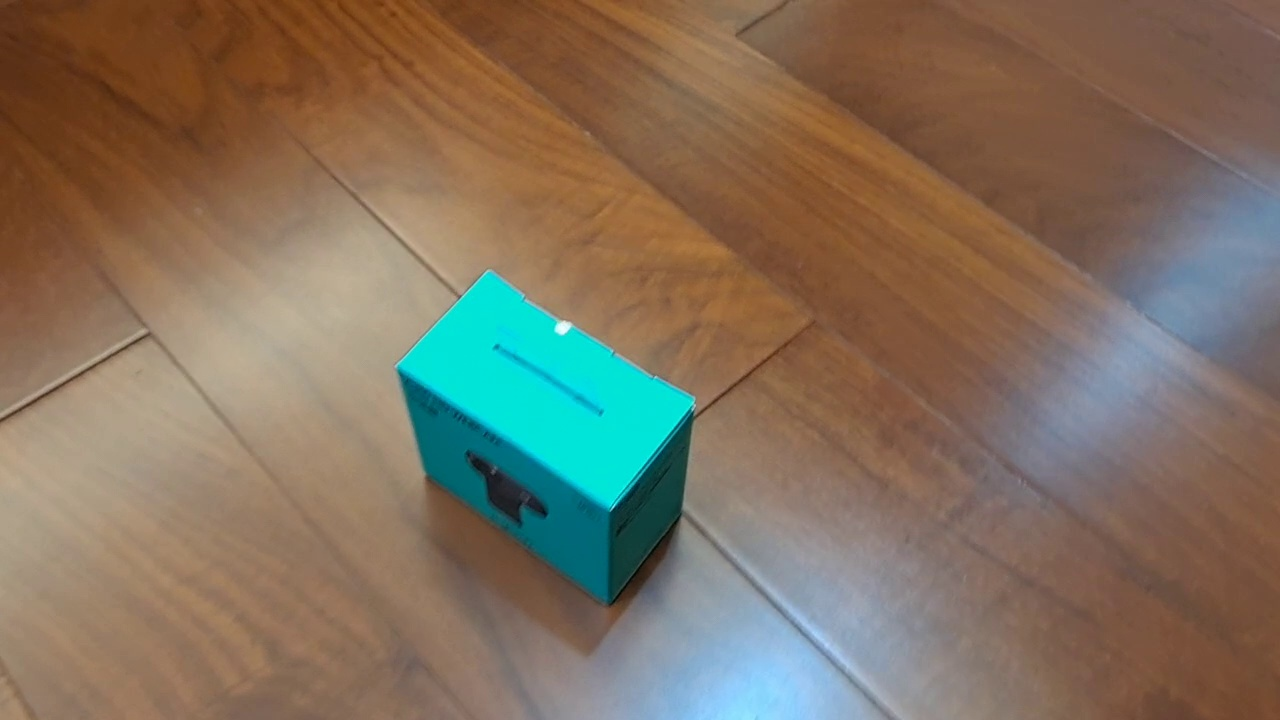webcam: (394, 265, 698, 608)
